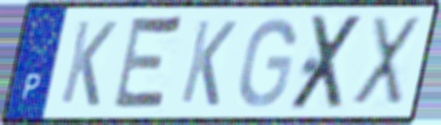E: (108, 11, 187, 115)
G: (235, 16, 299, 110)
K: (176, 17, 240, 109), (57, 17, 120, 110)
X: (286, 12, 368, 113), (348, 14, 423, 111)
